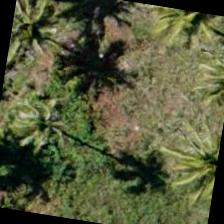Kelapa_Sawit: (0, 73, 84, 175), (162, 118, 223, 214), (139, 4, 223, 66), (6, 0, 69, 71)
